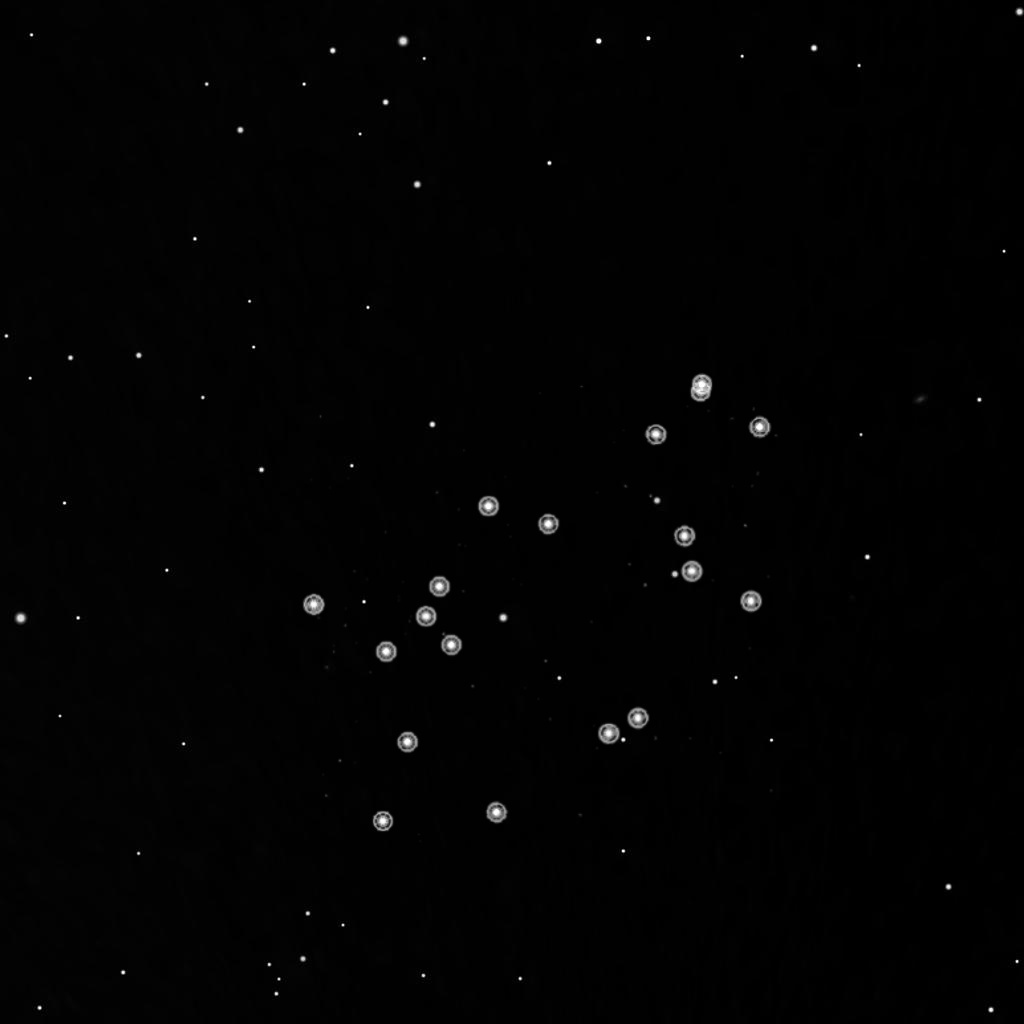canis_major: (368, 491, 565, 672)
